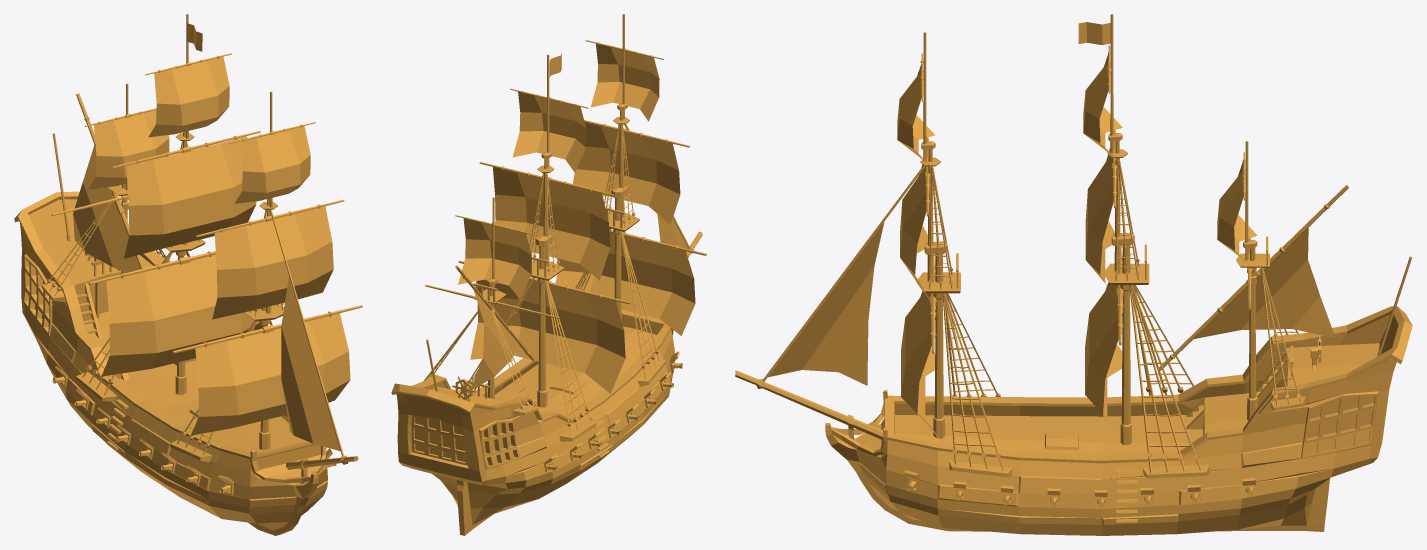
Rendered from ship-colonial-flags.fbx.
3 views of the same model, side by side, from view 1: azimuth 30°, elevation 25°; view 2: azimuth 150°, elevation 25°; view 3: azimuth 270°, elevation 25° (orthographic). The views are drawn at different scales.
Parts seen in each view (by area): view 1: ship-colonial-flags; view 2: ship-colonial-flags; view 3: ship-colonial-flags.
Boxes of the visible parts, bbox=[...] form: ship-colonial-flags: bbox=[14, 14, 362, 535]; ship-colonial-flags: bbox=[391, 14, 706, 535]; ship-colonial-flags: bbox=[735, 14, 1412, 535].
Size of the model in its own units: 12.22 by 28.51 by 33.91.
